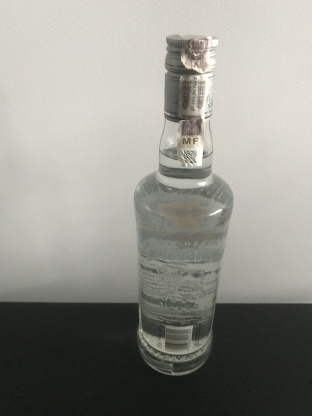nakretka: (162, 31, 219, 124)
